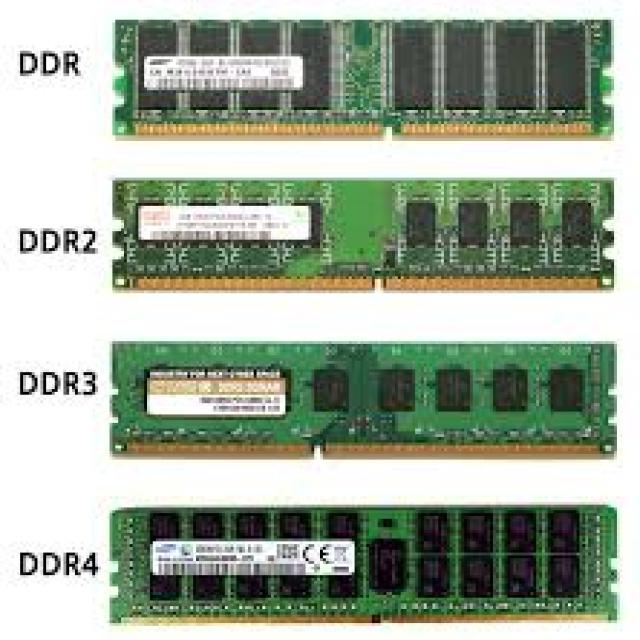Ram: (104, 38, 592, 640)
